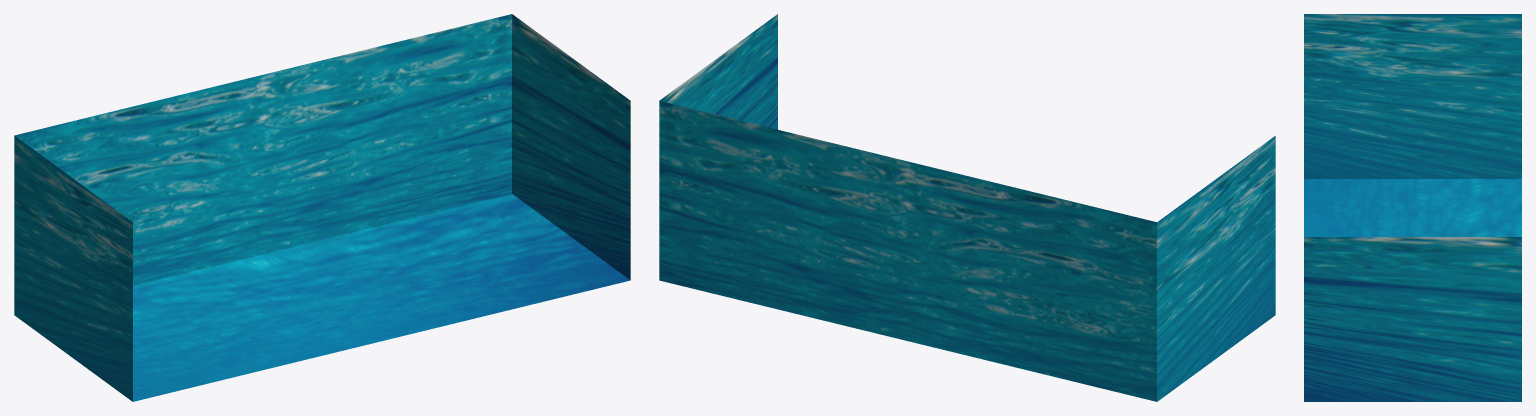
Rendered from UW_water_Floor1.dae.
3 renders of one model, left to right at view 1: azimuth 30°, elevation 25°; view 2: azimuth 150°, elevation 25°; view 3: azimuth 270°, elevation 25°, orthographic. The views are drawn at different scales.
Visible parts, largest first — view 1: Cube_001; view 2: Cube_001; view 3: Cube_001.
Part boxes in pixels (x1,y1,x2,y2): Cube_001: [14, 14, 630, 401]; Cube_001: [659, 14, 1275, 401]; Cube_001: [1304, 14, 1521, 401].
Bounding box in the file's own units: 2036 × 840 × 702.
1 material, 1 textured.
